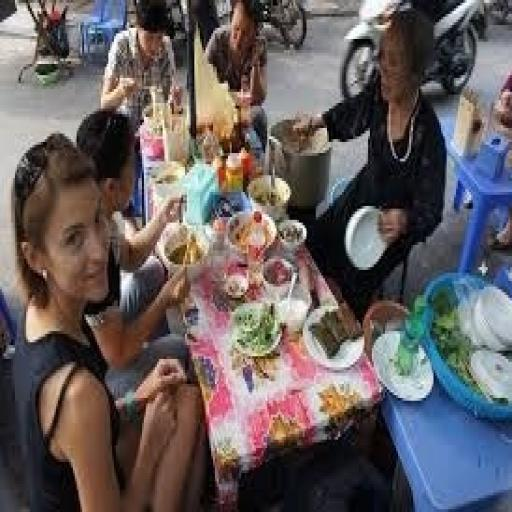eating: (9, 122, 204, 506)
